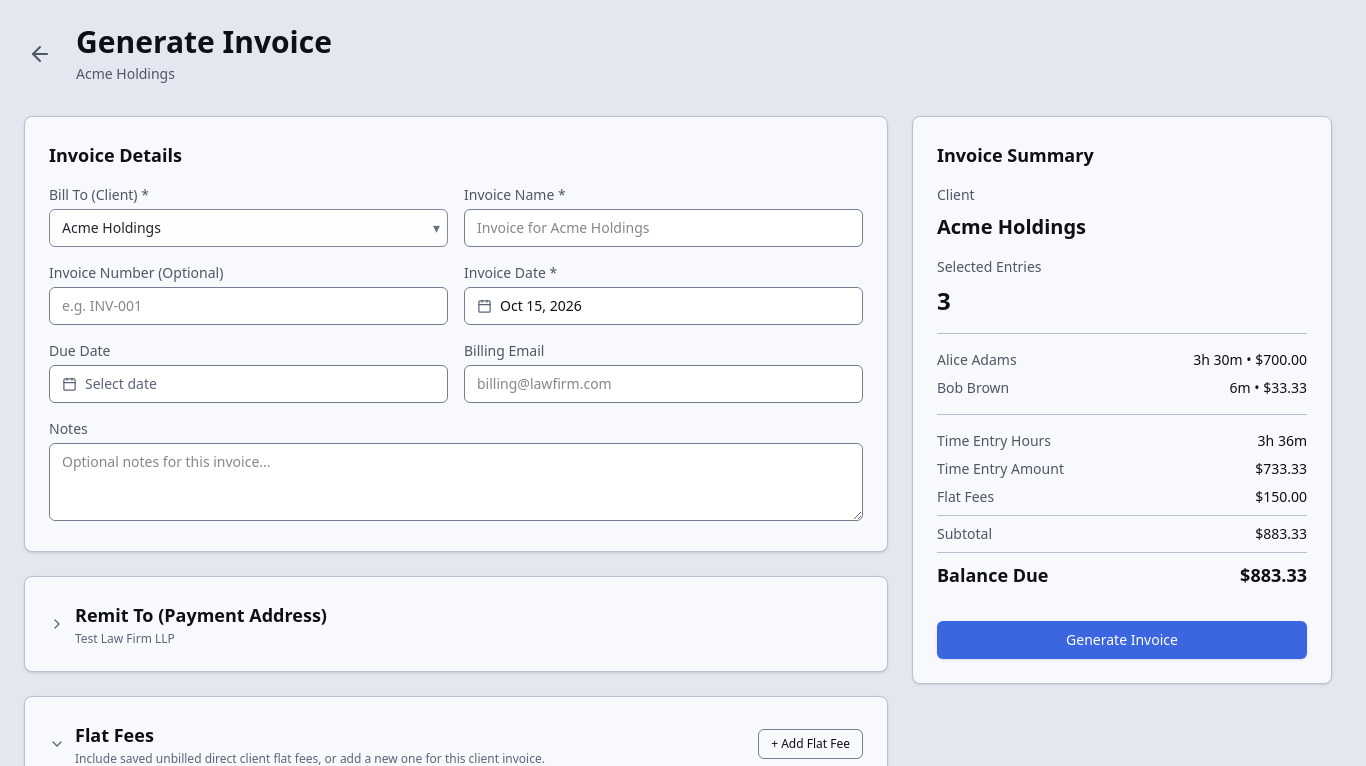
Scenario: client generate-invoice submit › refuses payments received that exceed the invoice total
This screenshot has width=1366, height=766.
In the field with placeholder "Invoice for Acme Holdings": coordinates (664, 228) [464,209,863,247], type "March work"
(page scrolled)
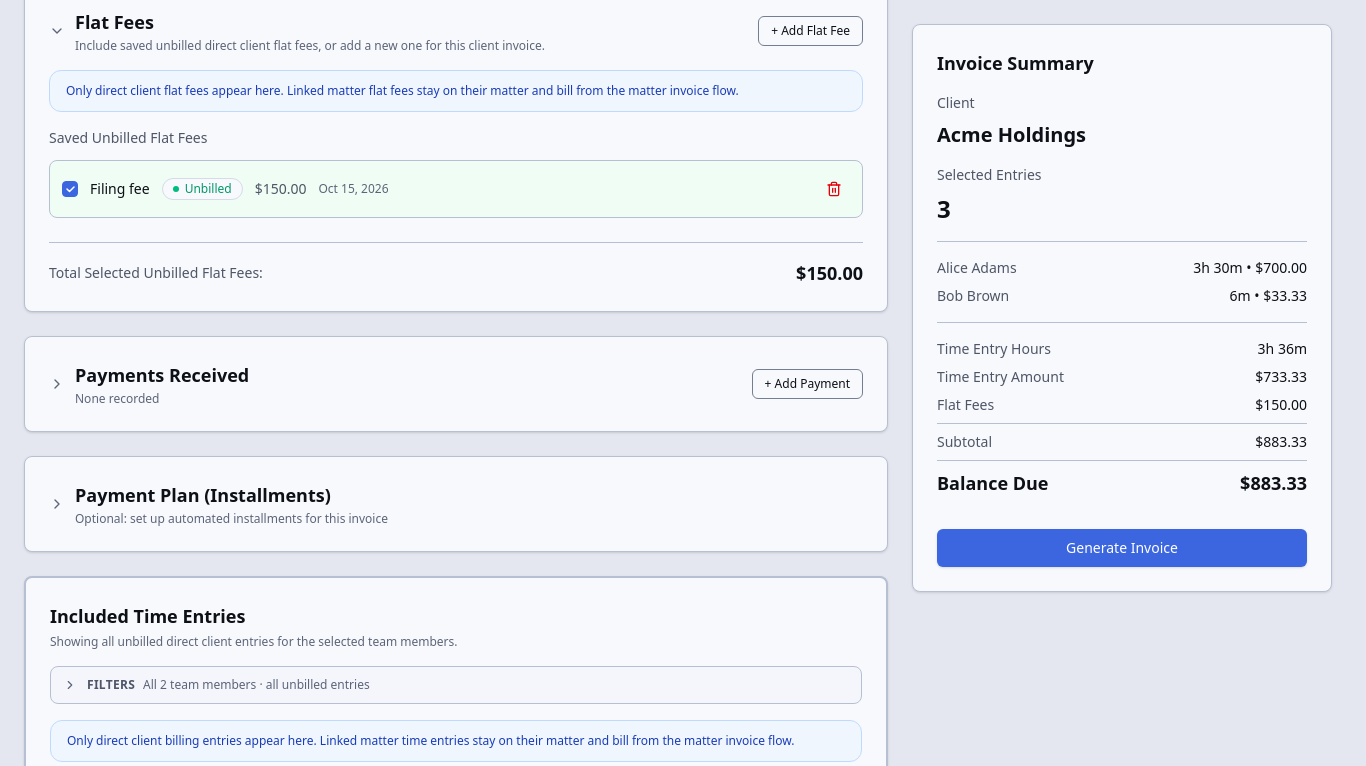
Click the button "+ Add Payment": coordinates (807, 384) [752,369,863,399]
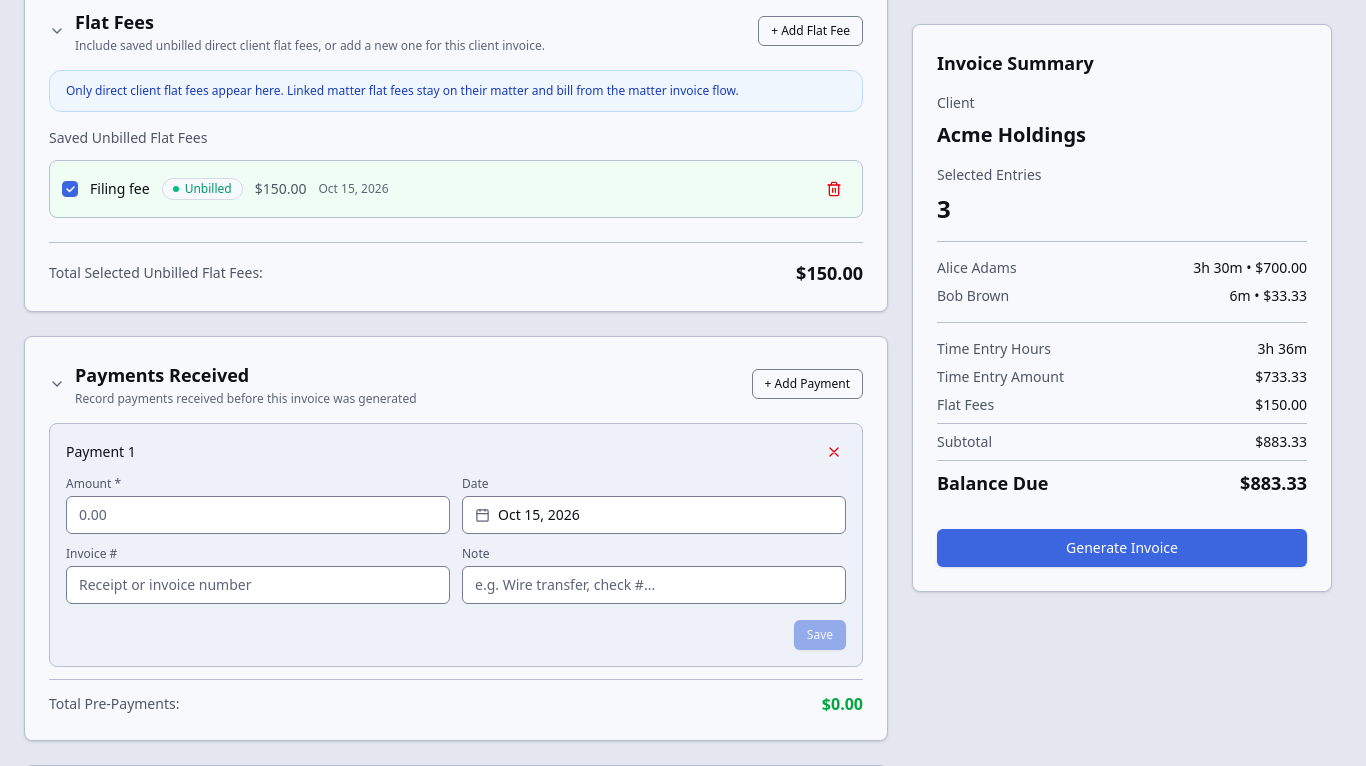
In the number field with placeholder "0.00": coordinates (258, 515) [66,496,450,534], type "900"
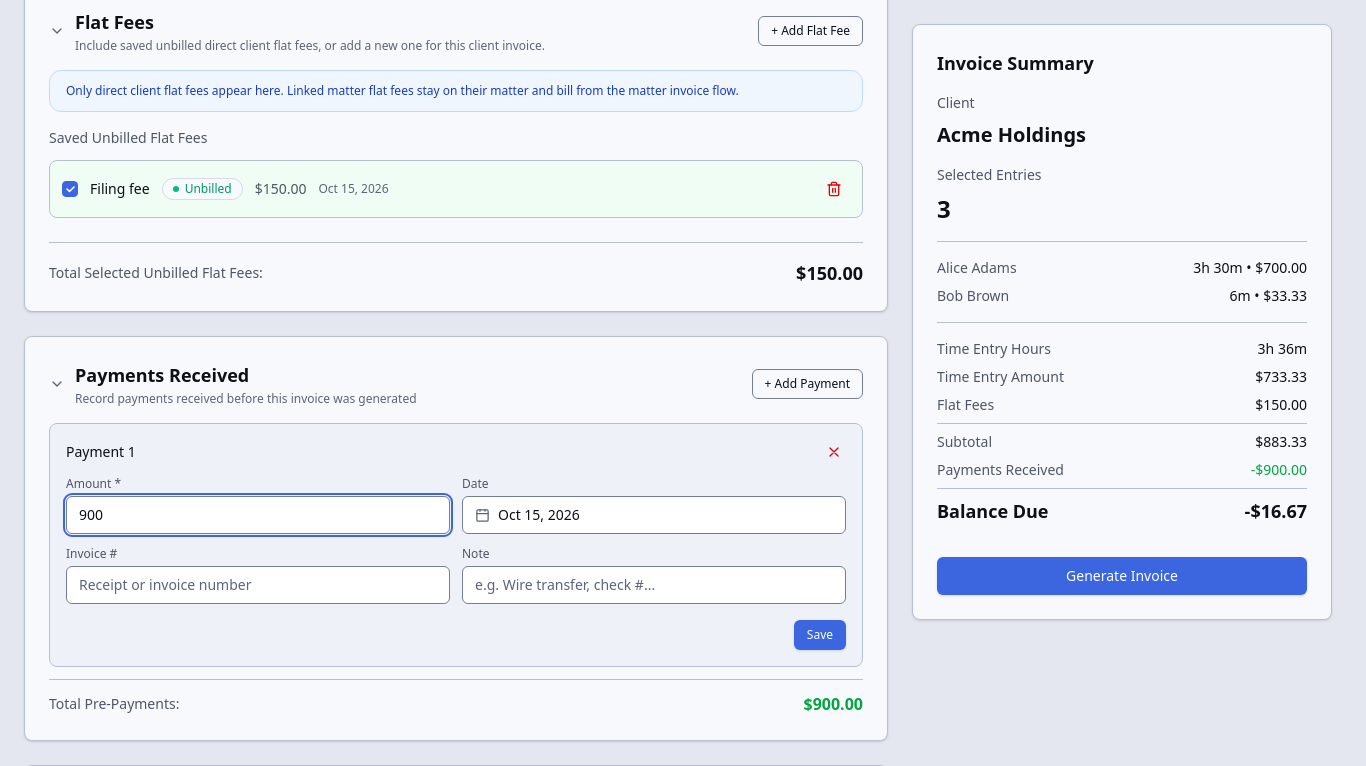
Click the button "Generate Invoice": coordinates (1122, 576) [937,557,1307,595]
(page scrolled)
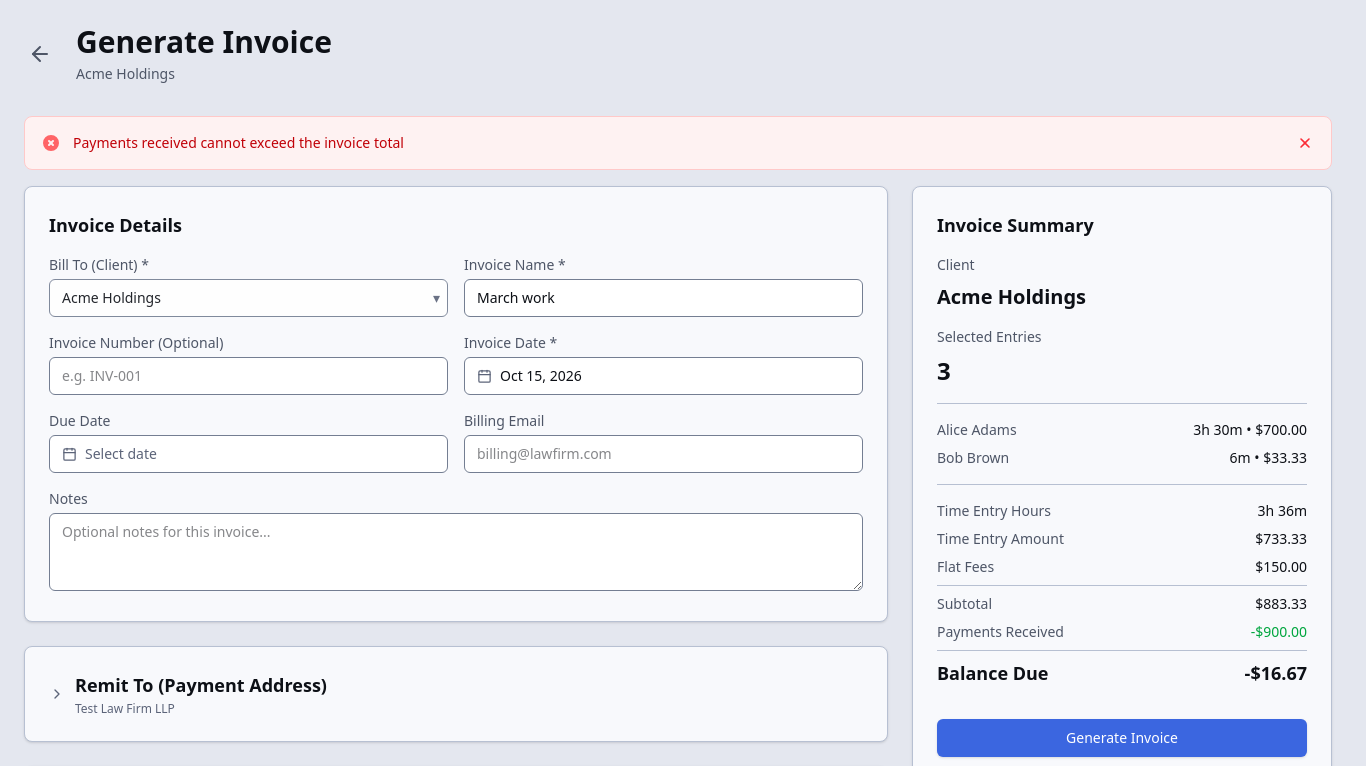
Check: the text "Payments received cannot exceed the invoice total" is shown, box [73,133,404,152]
